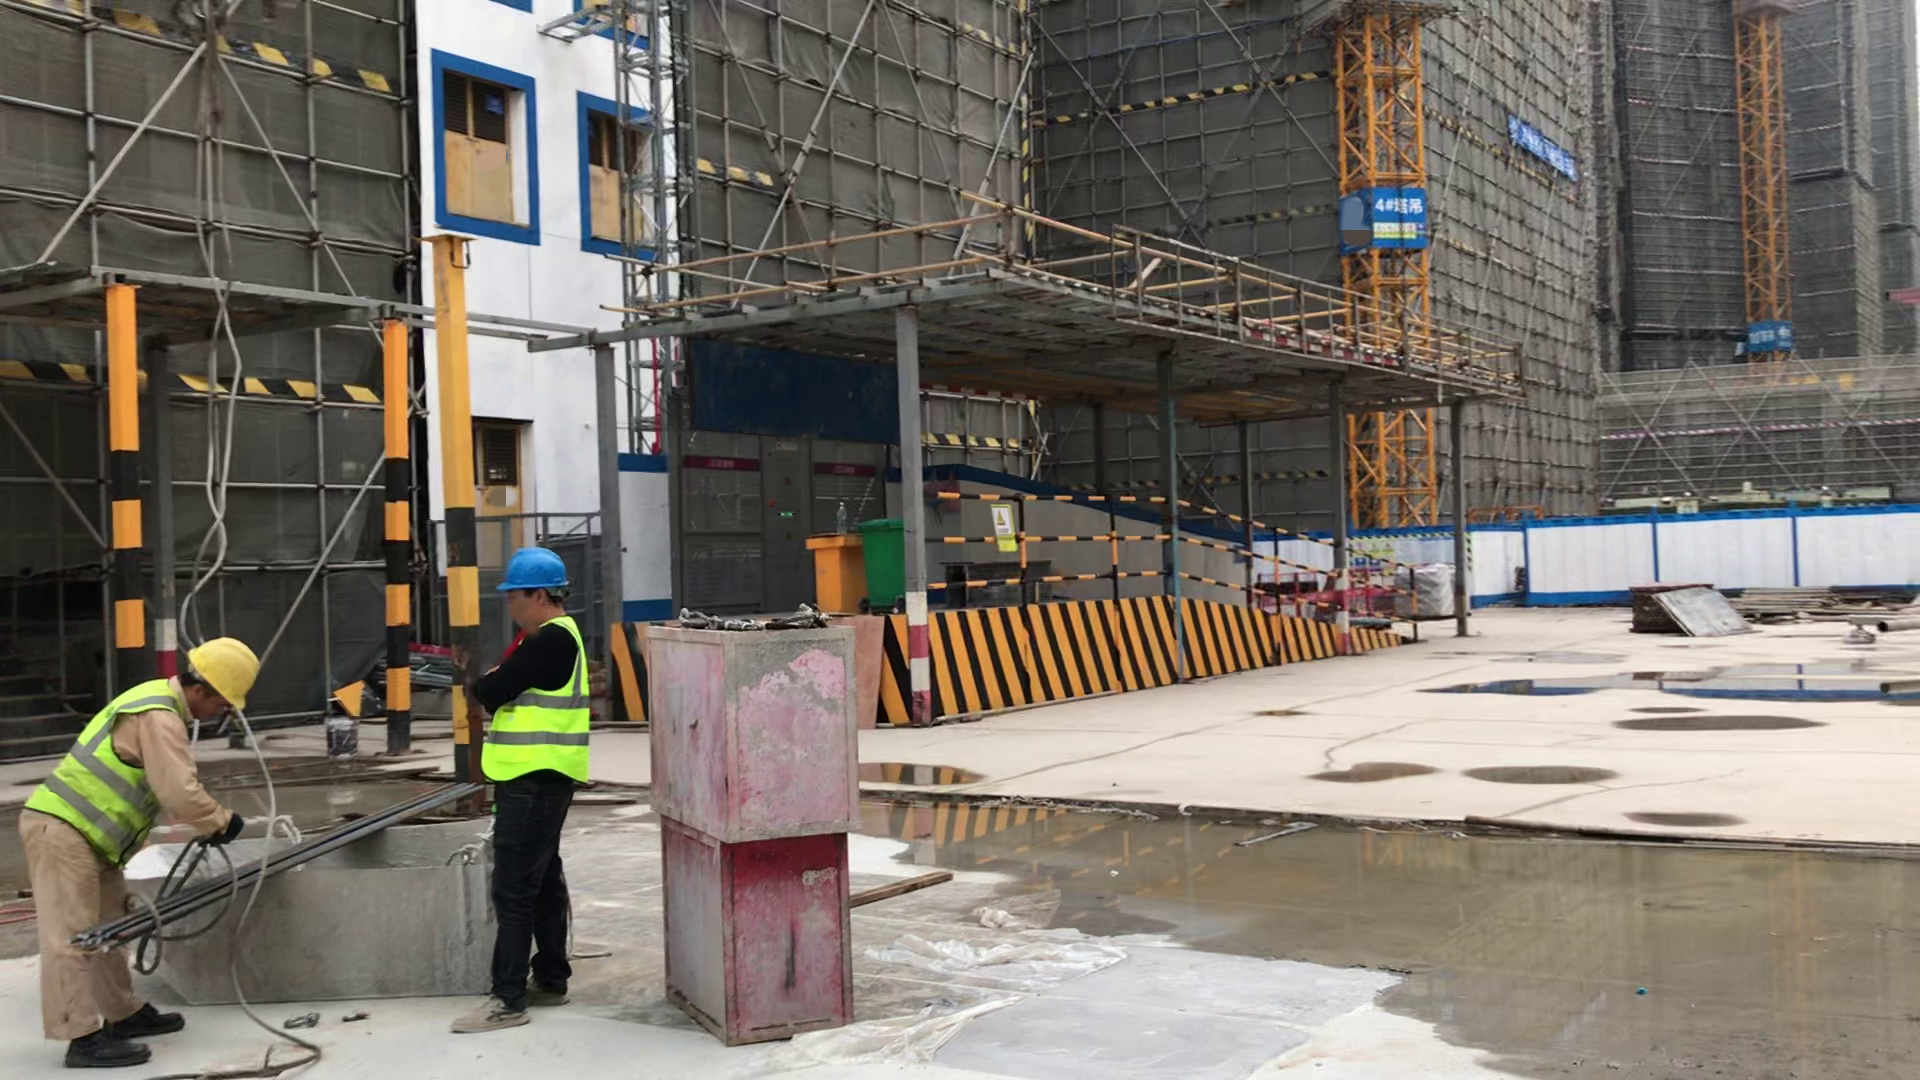board: (1657, 587, 1759, 640)
fence: (919, 476, 1440, 637)
helmet: (177, 620, 267, 718), (488, 546, 578, 606)
hopper: (102, 793, 548, 1016)
person: (13, 585, 281, 1079), (462, 534, 613, 1069)
rebar: (69, 819, 433, 965)
slogan: (1338, 187, 1430, 265), (1500, 115, 1584, 184), (1726, 316, 1800, 358), (983, 499, 1025, 557)
vest: (25, 678, 198, 870), (472, 616, 607, 793)
